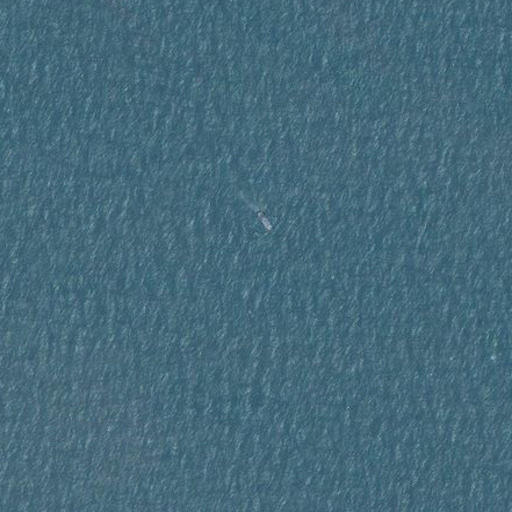ship: (252, 206, 277, 233)
